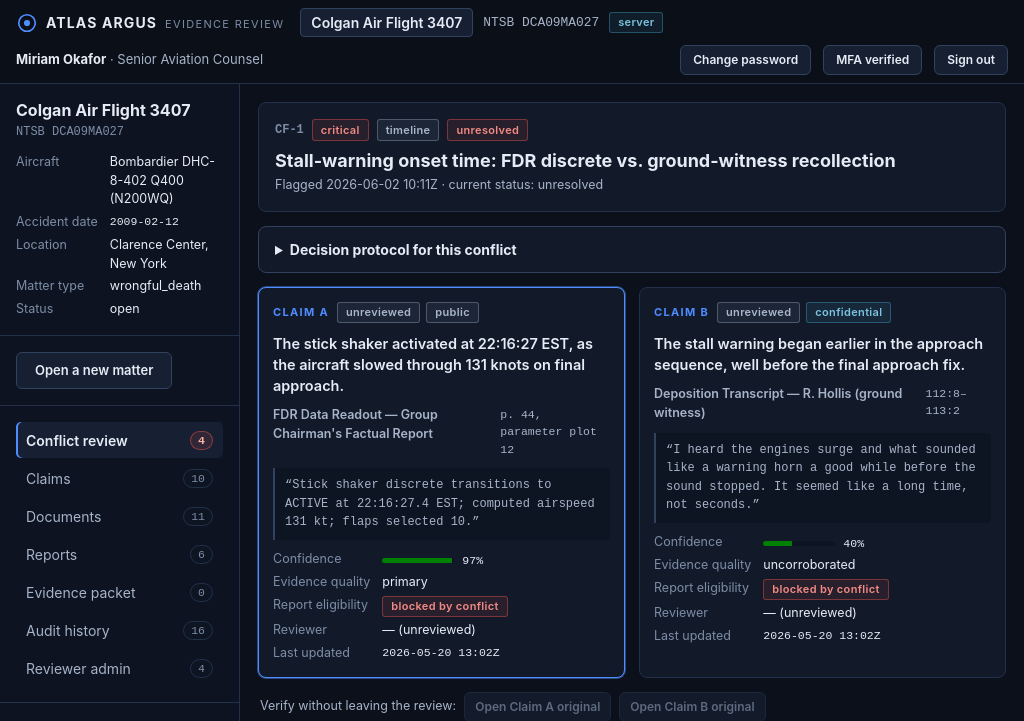
Test case: server mode › lets senior counsel approve a draft report section for production
Click the button "Reports 6": (120, 554) x1=16 y1=536 x2=223 y2=572
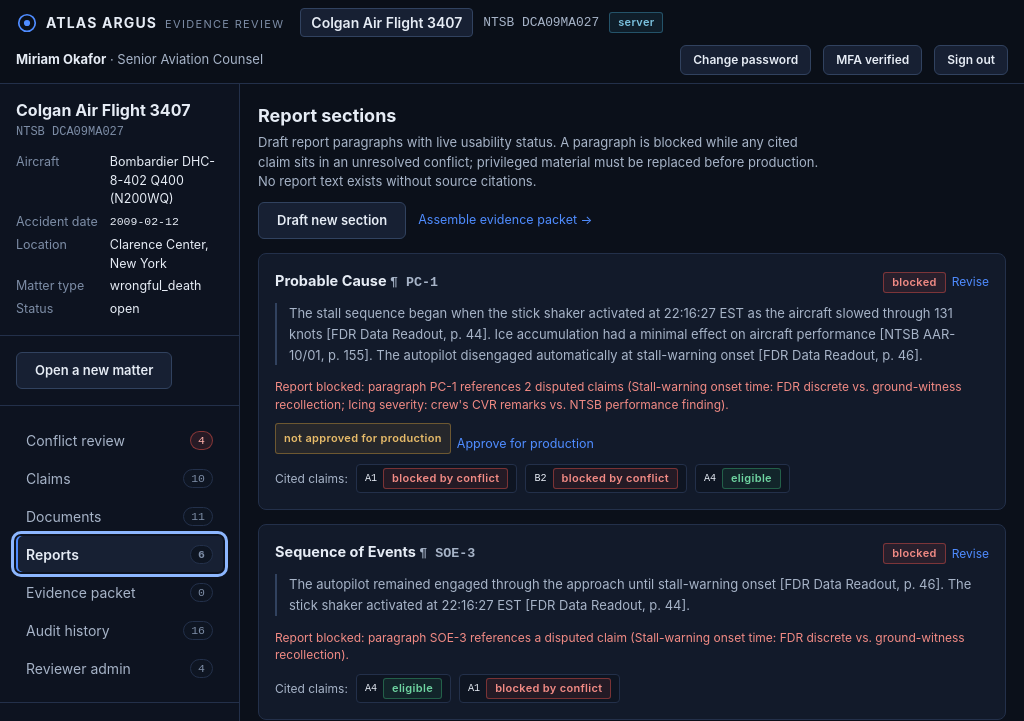
Check: the text "Not approved for production" is shown, box x1=275 y1=423 x2=451 y2=454
Click the button "Approve for production": (525, 445) x1=457 y1=435 x2=594 y2=454
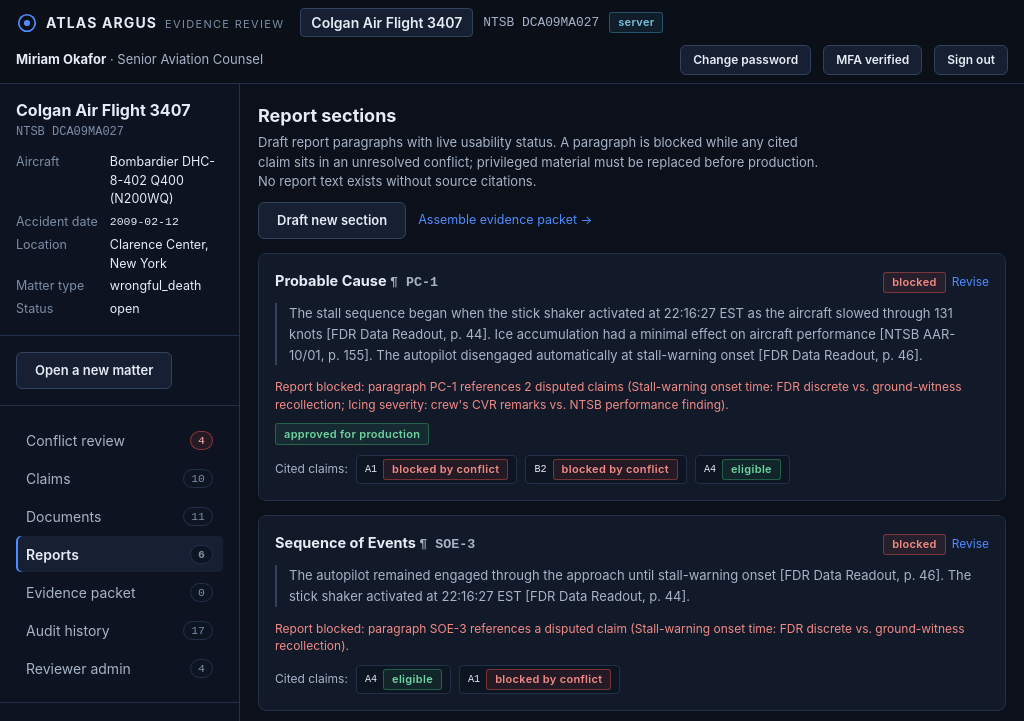
Check: the text "Approved for production" is shown, box x1=275 y1=423 x2=429 y2=445
Check: the text "Not approved for production" is gone
